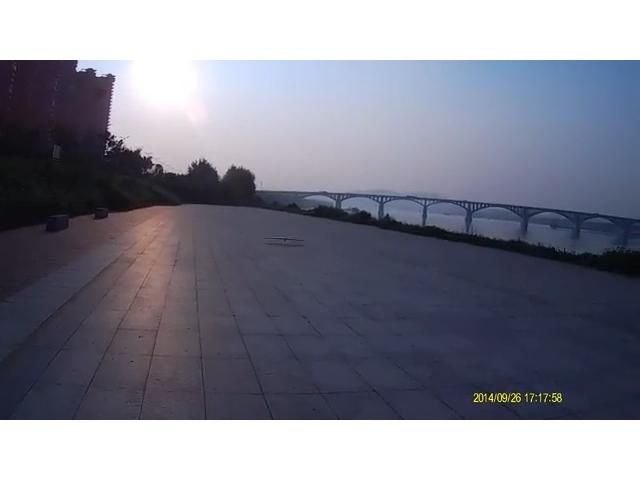Anti-Drone: (256, 224, 316, 252)
